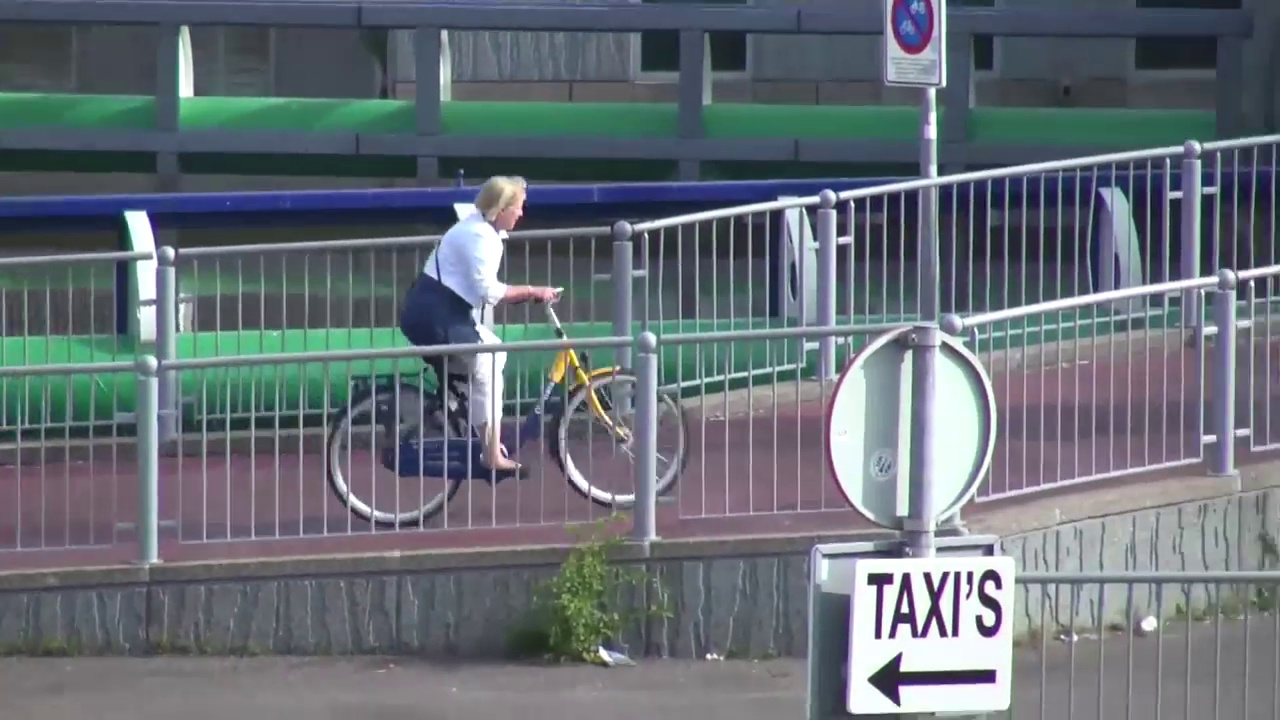cyclist_side: (327, 168, 701, 514)
